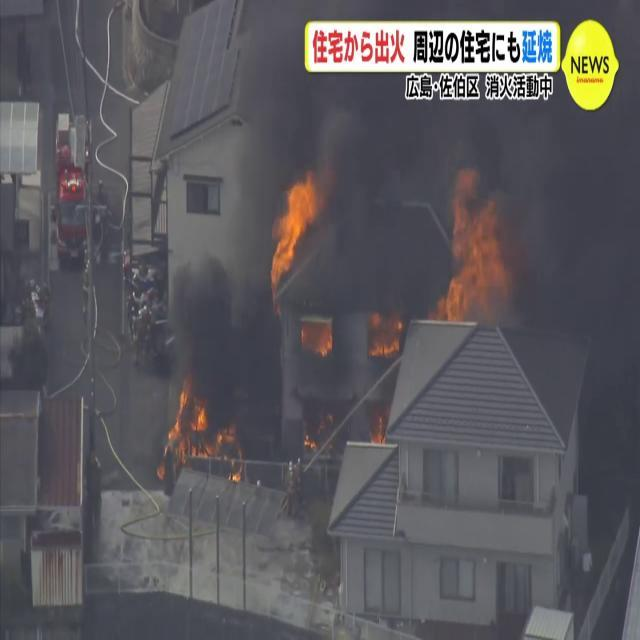Fire: (431, 165, 512, 322), (162, 386, 244, 472), (269, 165, 323, 292), (365, 306, 405, 360)
Smoke: (221, 0, 640, 296), (165, 232, 278, 432)
